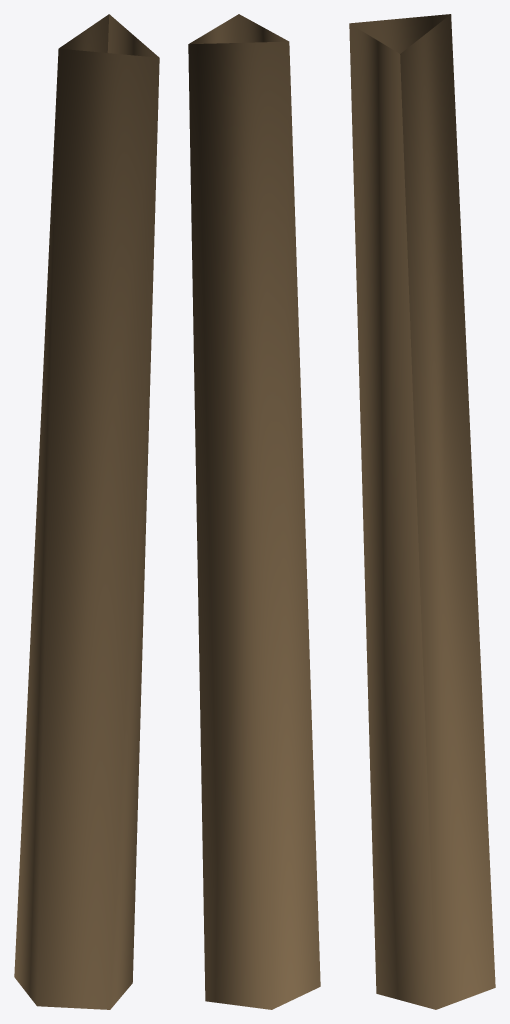
The picture shows the model from 3 angles, left to right: view 1: azimuth 90°, elevation 25°; view 2: azimuth 210°, elevation 25°; view 3: azimuth 270°, elevation 25°; orthographic projection.
Parts seen in each view (by area): view 1: polySurface15; view 2: polySurface15; view 3: polySurface15.
Part boxes in pixels (box(x1,y1,x2,y2)): polySurface15: box(14, 14, 159, 1009); polySurface15: box(188, 14, 320, 1009); polySurface15: box(349, 14, 495, 1009).
Size of the model in its own units: 4.22 by 39.33 by 5.43.
